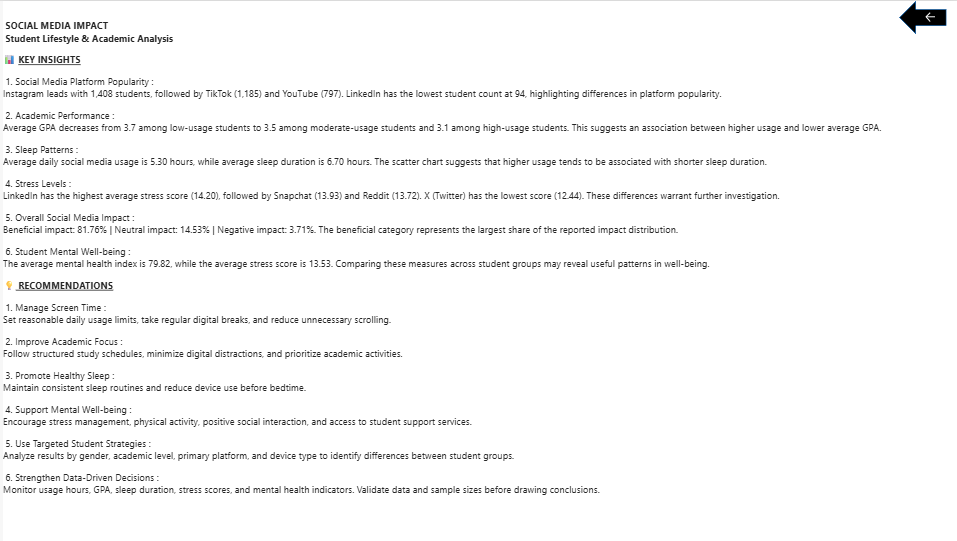

The dashboard page shown, as its layout file describes it:
{"tool":"powerbi","page":{"name":"Insights & Recommandation ","canvas":[1920,1080],"ordinal":2},"visuals":[{"type":"textbox","box":[10.5,0,1909.9,1079.7],"z":0},{"type":"shape","box":[1803.5,0,94.2,66.3],"z":1},{"type":"actionButton","box":[1833.1,15.7,64.5,34.9],"z":2}]}

Visuals, with their boxes in screenshot pixels (x1, y1, x2, y2), scaled from the page's 1920x1080 canvas onto the 957x541 screenshot:
textbox: x1=5, y1=0, x2=956, y2=540
shape: x1=899, y1=0, x2=946, y2=33
actionButton: x1=914, y1=8, x2=946, y2=25
